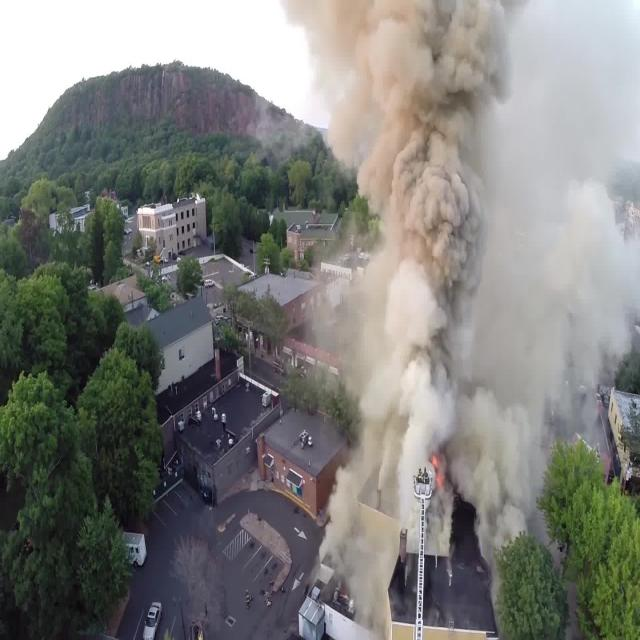smoke: (365, 0, 640, 452), (331, 480, 393, 635), (458, 458, 534, 538)
